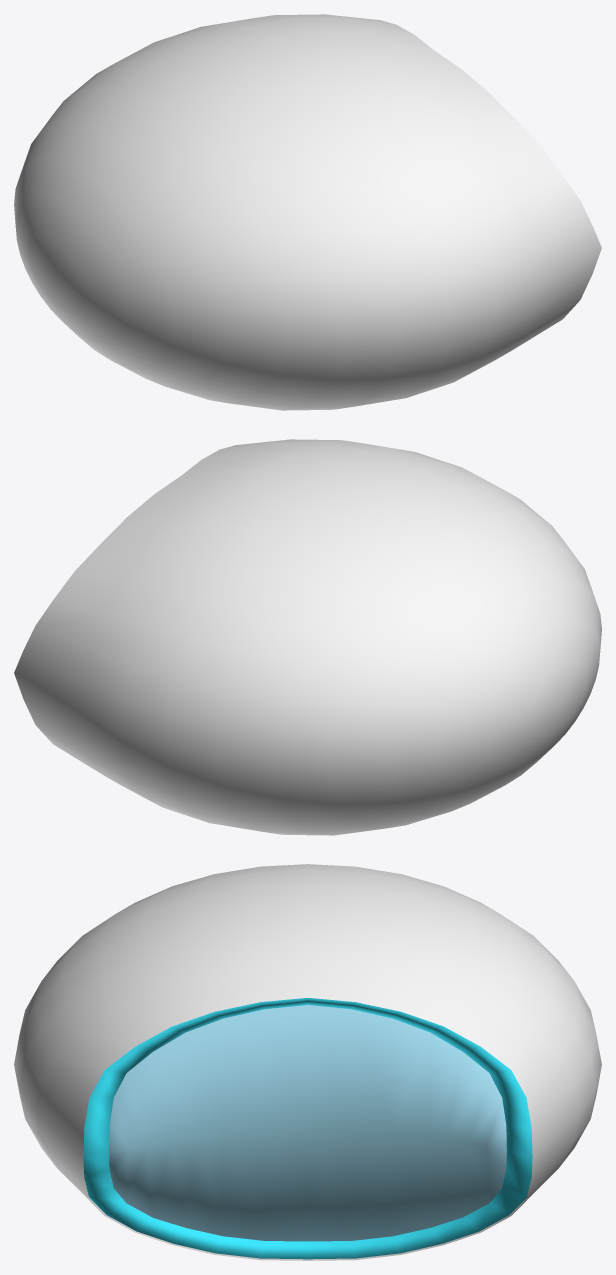
File: rk_moochi.fbx
3 renders of one model, top to bottom at view 1: azimuth 30°, elevation 25°; view 2: azimuth 150°, elevation 25°; view 3: azimuth 270°, elevation 25°, orthographic.
Visible parts, largest first — view 1: Sphere.002; view 2: Sphere.002; view 3: Sphere.002, Sphere.001, Sphere.
Part boxes in pixels (x1=…): Sphere.002: x1=14, y1=14, x2=601, y2=410; Sphere.002: x1=14, y1=439, x2=601, y2=835; Sphere.002: x1=14, y1=864, x2=601, y2=1260; Sphere.001: x1=109, y1=1005, x2=506, y2=1241; Sphere: x1=83, y1=998, x2=532, y2=1259.
Bounding box in the file's own units: 0.3397 × 0.2312 × 0.3893.
Materials: 3 (1 with a texture image).
